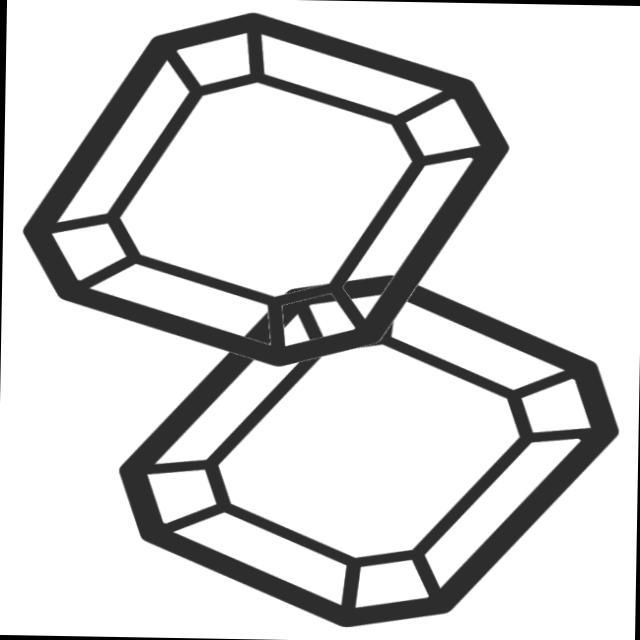emerald: (111, 265, 627, 640), (15, 6, 517, 372)
